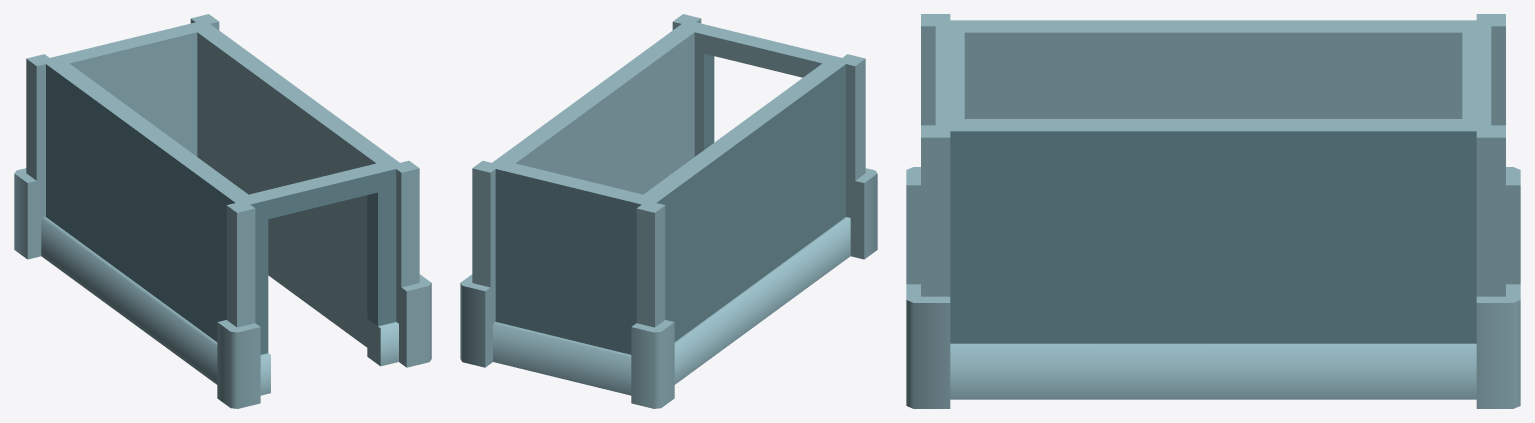
The model's file is cryptLarge.fbx.
3 views of the same model, side by side, from view 1: azimuth 30°, elevation 25°; view 2: azimuth 150°, elevation 25°; view 3: azimuth 270°, elevation 25° (orthographic). The views are drawn at different scales.
Visible parts, largest first — view 1: cryptLarge; view 2: cryptLarge; view 3: cryptLarge.
Part boxes in pixels (x1,y1,x2,y2): cryptLarge: (14,14,431,408); cryptLarge: (460,14,877,408); cryptLarge: (906,14,1520,408).
Size of the model in its own units: 11 by 10 by 21.
